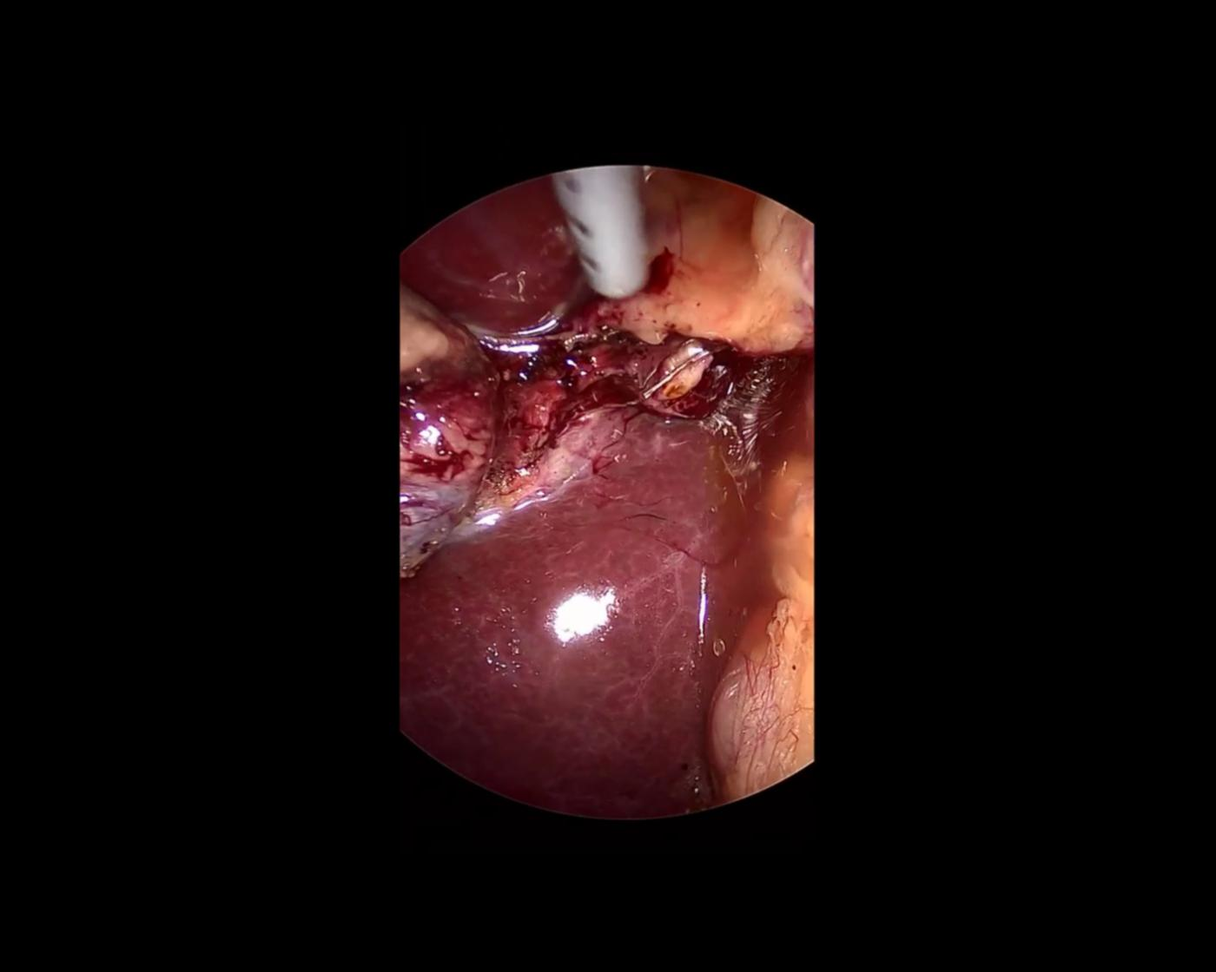Gallbladder: (402, 289, 496, 572)
Liver: (395, 413, 708, 821), (384, 174, 594, 361)
Suction: (554, 162, 649, 300)
